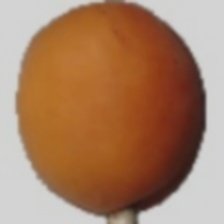apricot: (26, 0, 165, 201)
